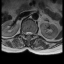CCS_normal: (27, 29, 29, 38)
LFS_normal: (32, 30, 34, 37)
LLS_normal: (29, 29, 32, 37)
RFS_normal: (23, 29, 25, 36)
RLS_normal: (25, 30, 27, 37)
